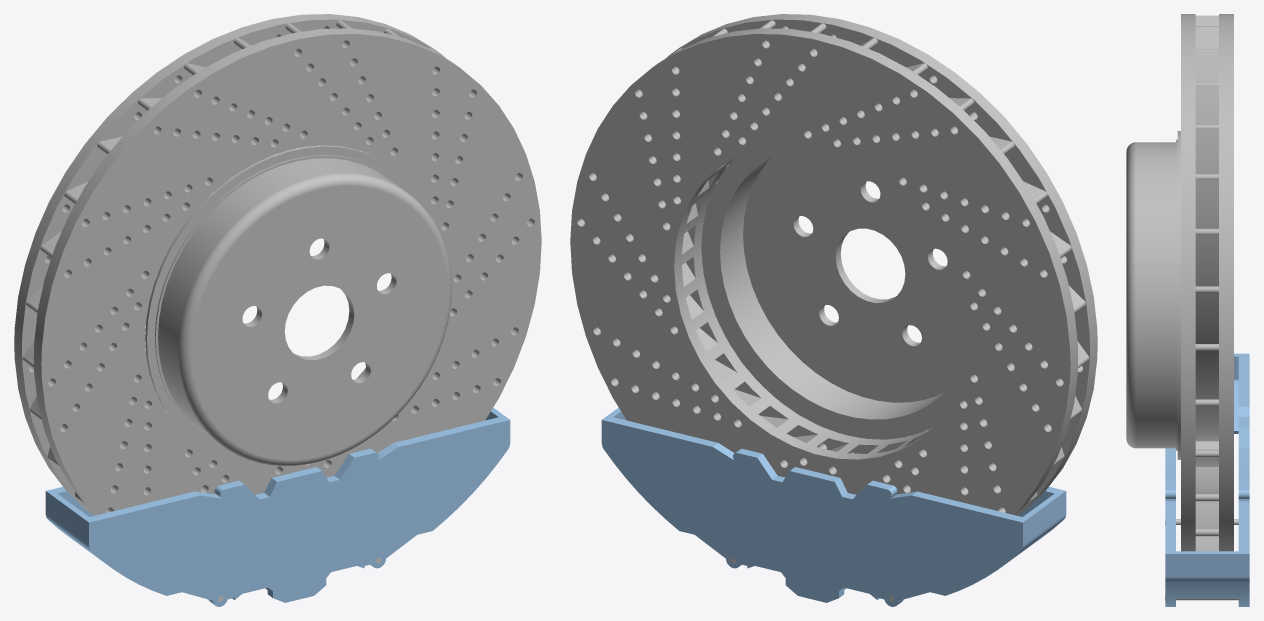
File: assembly.glb
The picture shows the model from 3 angles, left to right: view 1: azimuth 30°, elevation 25°; view 2: azimuth 150°, elevation 25°; view 3: azimuth 270°, elevation 25°; orthographic projection. The views are drawn at different scales.
Visible parts, largest first — view 1: PART 1.stp-1, PART 2.stp-1, PART 3.stp-1; view 2: PART 1.stp-1, PART 2.stp-1, PART 3.stp-1; view 3: PART 1.stp-1, PART 2.stp-1, PART 3.stp-1, PART 4.stp-2.
Boxes of the visible parts, left/top/right/bottom form: PART 1.stp-1: left=14, top=14, right=541, bottom=515; PART 2.stp-1: left=145, top=145, right=451, bottom=466; PART 3.stp-1: left=45, top=407, right=510, bottom=606; PART 1.stp-1: left=570, top=14, right=1097, bottom=515; PART 2.stp-1: left=701, top=145, right=966, bottom=439; PART 3.stp-1: left=601, top=407, right=1066, bottom=606; PART 1.stp-1: left=1181, top=14, right=1233, bottom=551; PART 2.stp-1: left=1126, top=131, right=1180, bottom=459; PART 3.stp-1: left=1165, top=353, right=1249, bottom=606; PART 4.stp-2: left=1165, top=594, right=1238, bottom=600.
Size of the model in its own units: 0.17 by 0.1795 by 0.0372.
